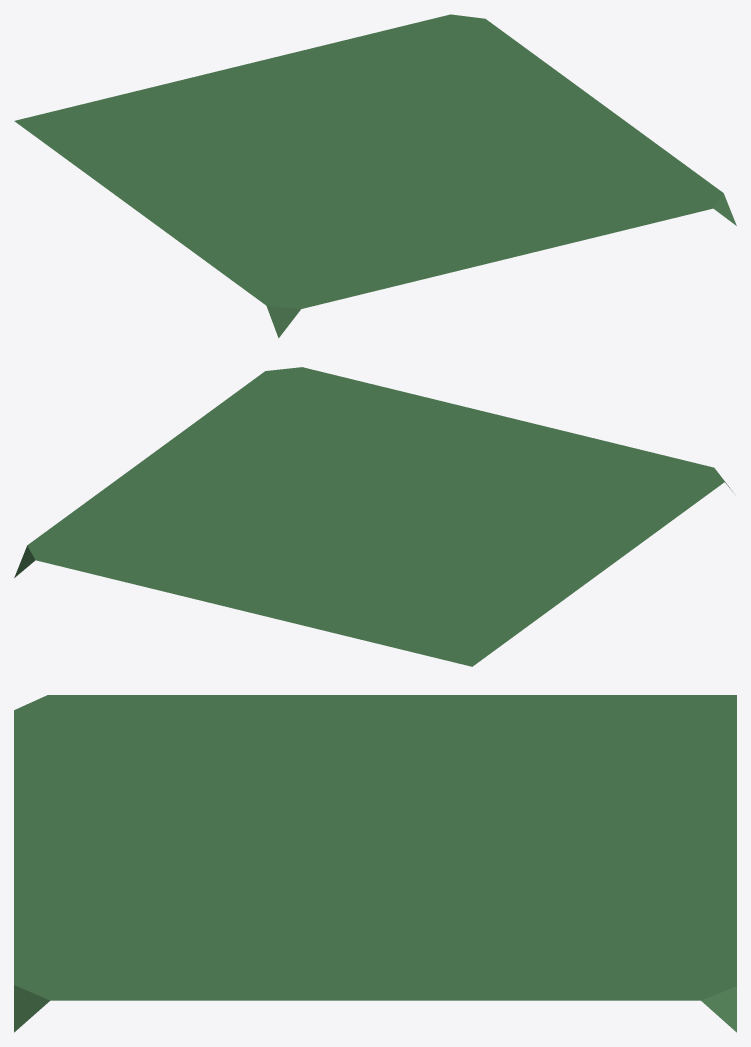
File: Grass_3_Interior_Corner.fbx
The picture shows the model from 3 angles, top to bottom: view 1: azimuth 30°, elevation 25°; view 2: azimuth 150°, elevation 25°; view 3: azimuth 270°, elevation 25°; orthographic projection. The views are drawn at different scales.
Parts seen in each view (by area): view 1: Grass_3_Interior_Corner; view 2: Grass_3_Interior_Corner; view 3: Grass_3_Interior_Corner.
Part boxes in pixels (x1=…): Grass_3_Interior_Corner: x1=14, y1=14, x2=736, y2=338; Grass_3_Interior_Corner: x1=14, y1=367, x2=732, y2=666; Grass_3_Interior_Corner: x1=14, y1=695, x2=736, y2=1032.
Size of the model in its own units: 1 by 0.0499 by 1.
